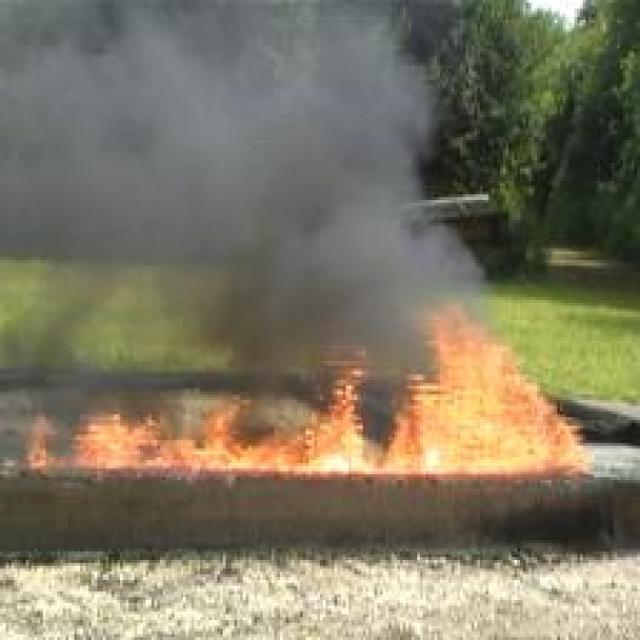Fire: (27, 307, 593, 476)
